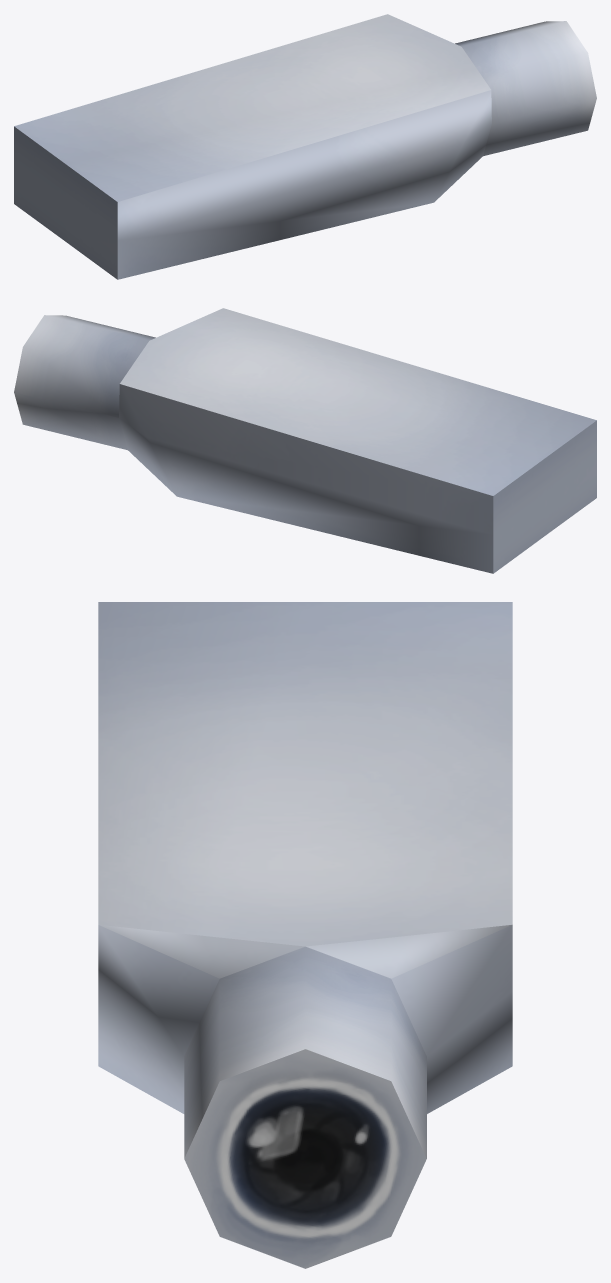
File: drone_camera_01.fbx
The picture shows the model from 3 angles, top to bottom: view 1: azimuth 30°, elevation 25°; view 2: azimuth 150°, elevation 25°; view 3: azimuth 270°, elevation 25°; orthographic projection. The views are drawn at different scales.
Visible parts, largest first — view 1: drone_camera1; view 2: drone_camera1; view 3: drone_camera1.
Boxes of the visible parts, bbox=[...] form: drone_camera1: bbox=[14, 14, 596, 279]; drone_camera1: bbox=[14, 308, 596, 573]; drone_camera1: bbox=[98, 602, 512, 1268].
Bounding box in the file's own units: 2.85 × 0.5982 × 1.02.
